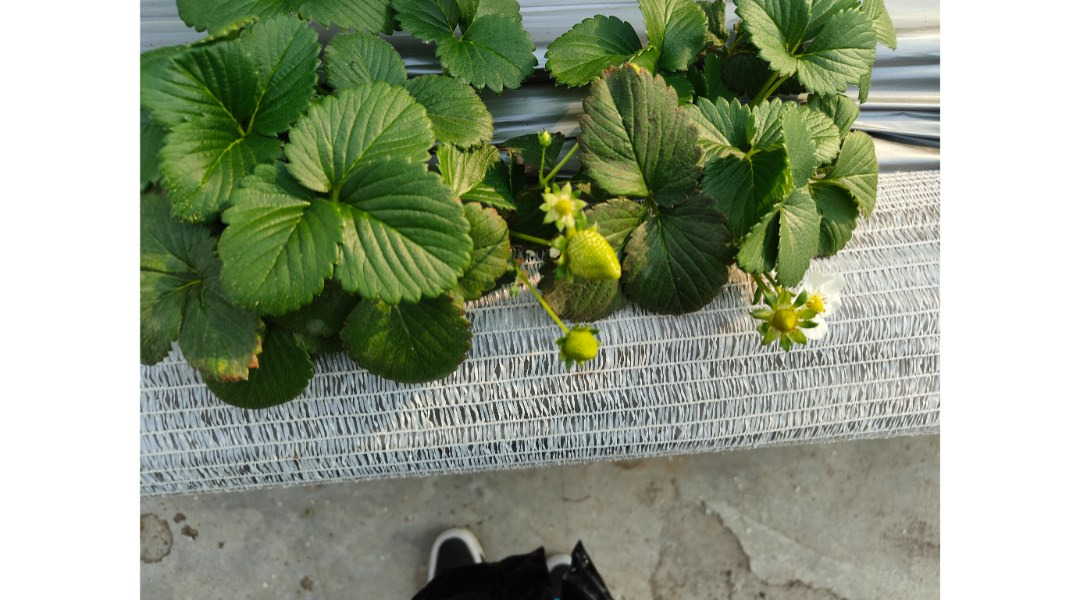berry: (556, 229, 622, 293), (761, 280, 813, 354), (557, 325, 600, 373)
flower: (785, 257, 847, 374), (536, 182, 586, 229)
strain: (516, 271, 568, 337)
